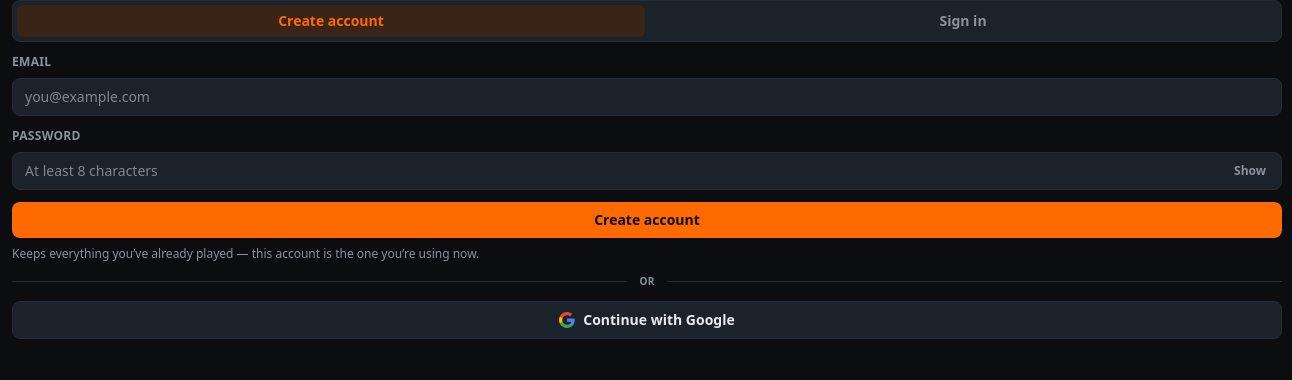
AuthPanel › refuses a too-short password before spending a request on it
In the field labelled "Email": (647, 97) [12,78,1282,116], type "player@example.com"
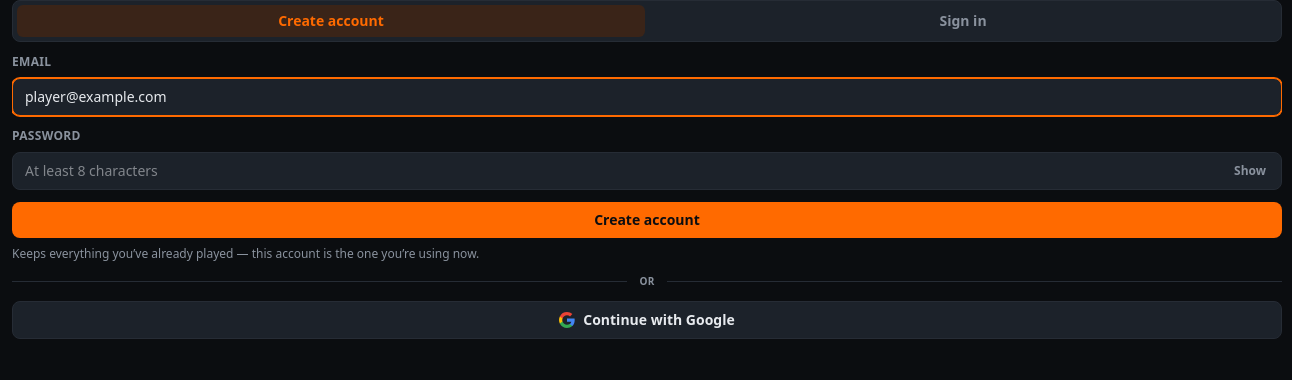
In the password field labelled "Password": (647, 171) [12,152,1282,190], type "short"
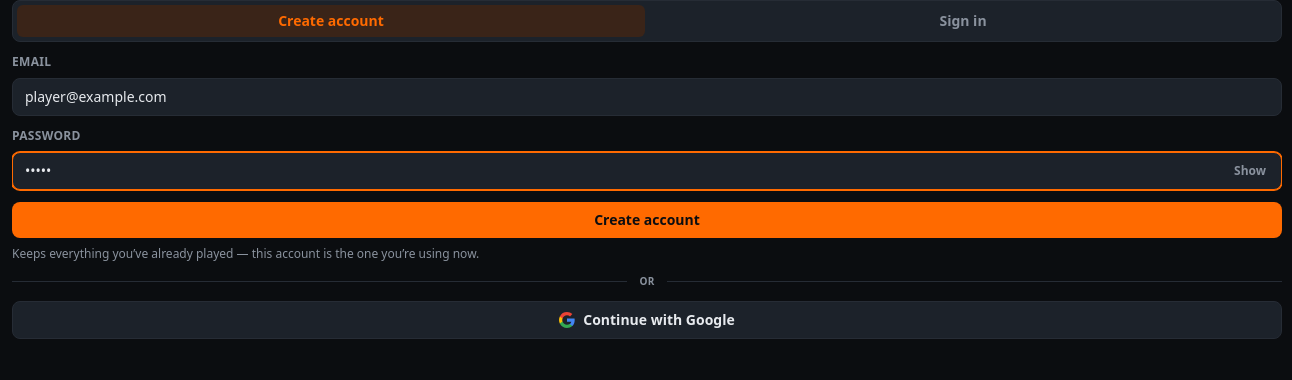
Click the button "Create account": click(647, 220) [12,202,1282,238]
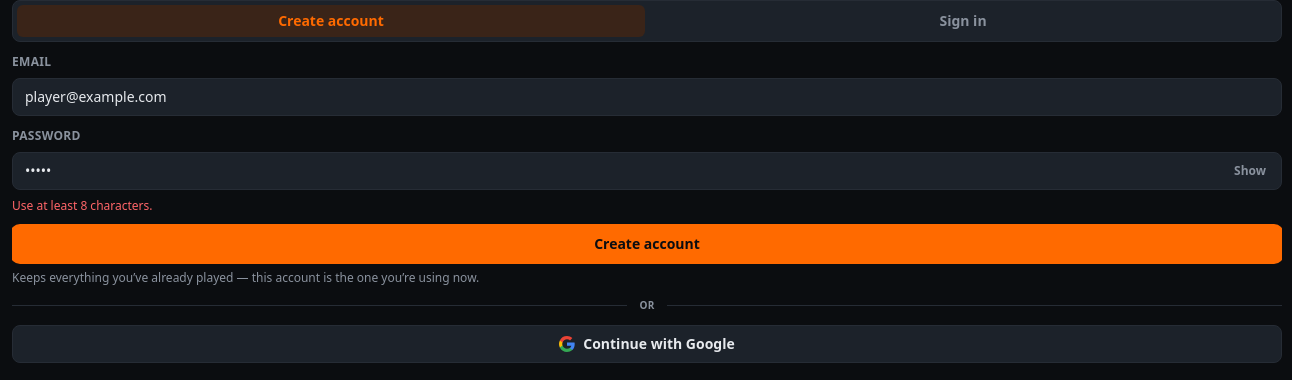
expect the message shows "at least 8 characters": met, box [12,197,152,214]
